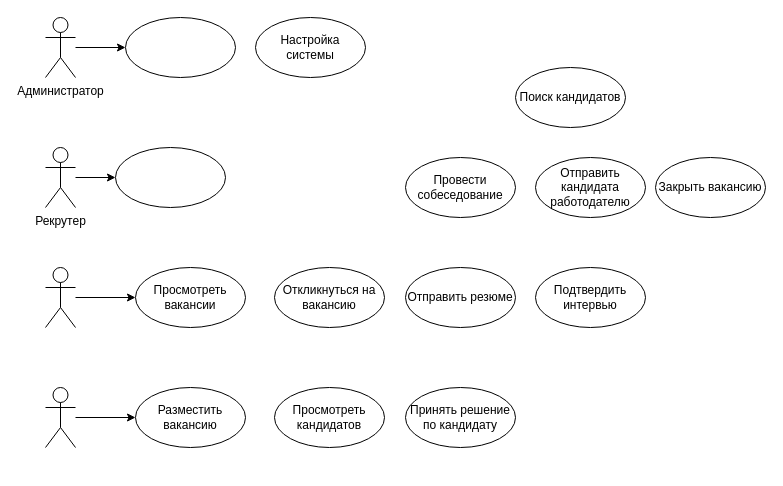
Some shapes in this 783 by 486 pixel diagram are drawn without their labels. Here are the shapes that lost their labels. From the top down, the centre of each, then its label:
At point (180, 47): "Управление пользователями".
At point (170, 177): "Анализ кандидатов".
At point (60, 297): "Кандидат".
At point (60, 417): "Работодатель".
